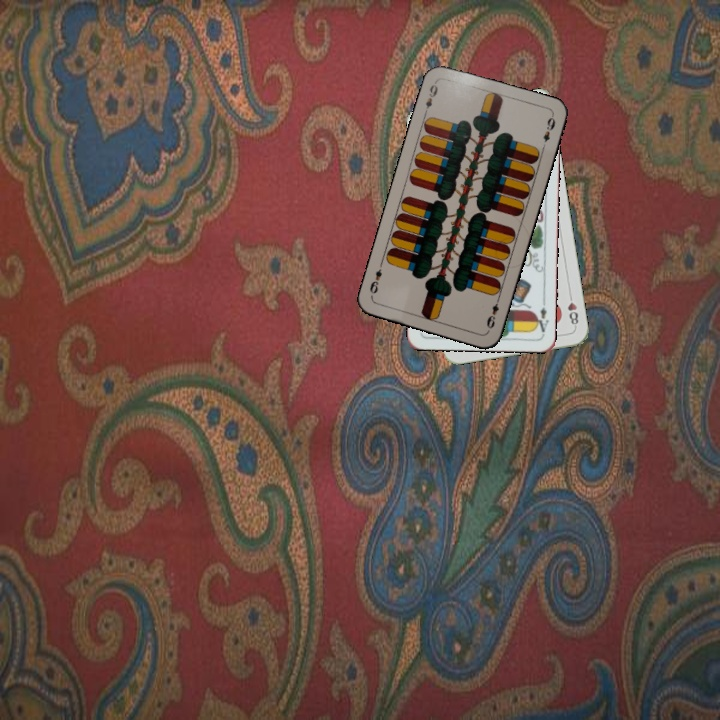E9: (420, 78, 440, 117), (483, 293, 502, 333)
EA: (531, 295, 551, 335)
H8: (564, 289, 581, 330)
